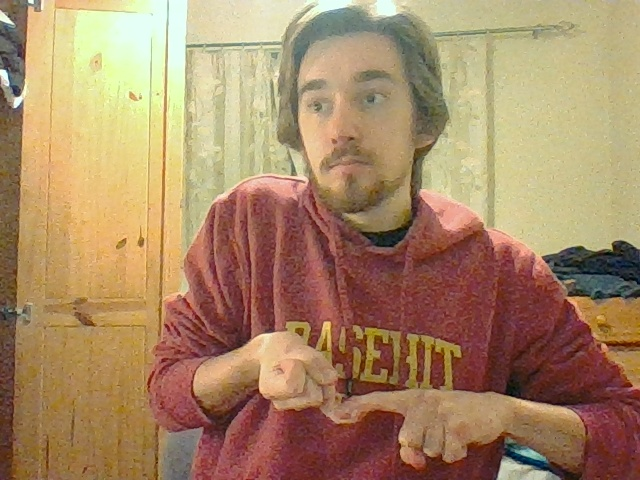step: (260, 331, 465, 470)
